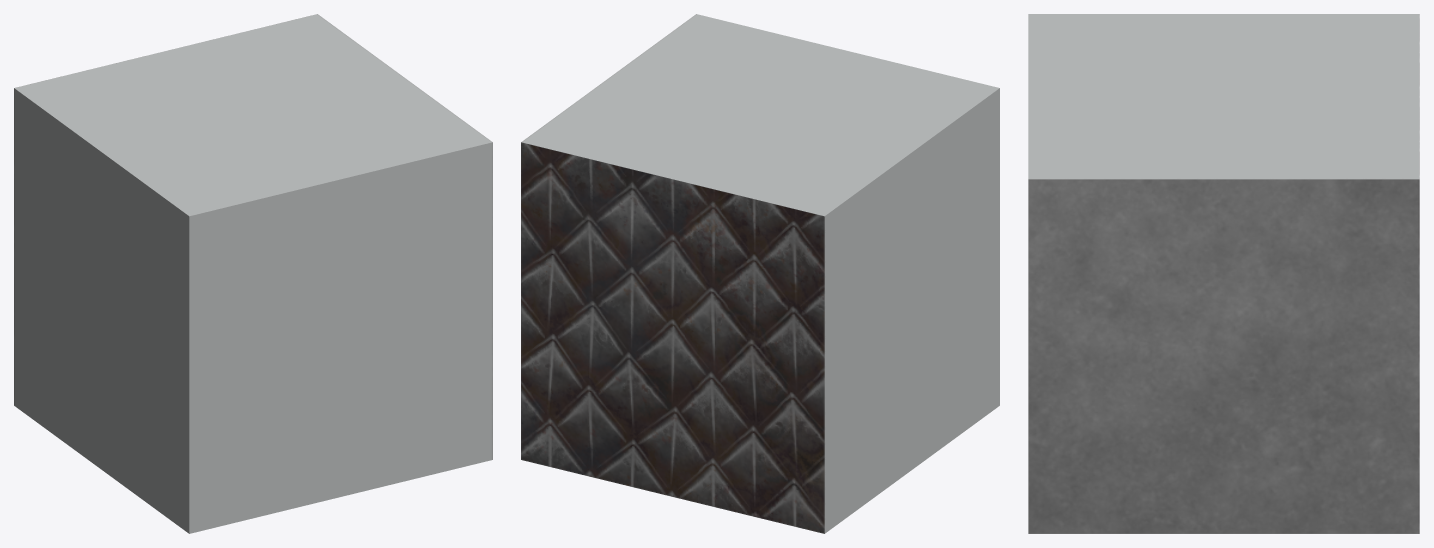
Rendered from CubeTexOn.fbx.
The picture shows the model from 3 angles, left to right: view 1: azimuth 30°, elevation 25°; view 2: azimuth 150°, elevation 25°; view 3: azimuth 270°, elevation 25°; orthographic projection. The views are drawn at different scales.
Visible parts, largest first — view 1: pCube1; view 2: pCube1; view 3: pCube1.
Boxes of the visible parts, box(x1,y1,x2,y2) form: pCube1: box(14, 14, 492, 533); pCube1: box(521, 14, 999, 533); pCube1: box(1028, 14, 1419, 533).
Bounding box in the file's own units: 1 × 1 × 1.
